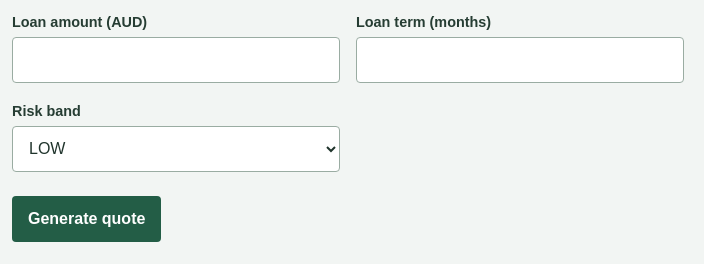
Scenario: LoanQuoteForm › shows the missing API key message to the user
Type "500000" into the number field labelled "Loan amount (AUD)".
click(176, 60); type("500000")  # box [12, 37, 340, 83]
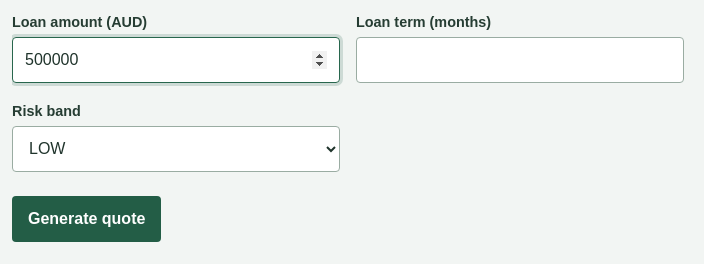
Type "360" into the number field labelled "Loan term (months)".
click(520, 60); type("360")  # box [356, 37, 684, 83]
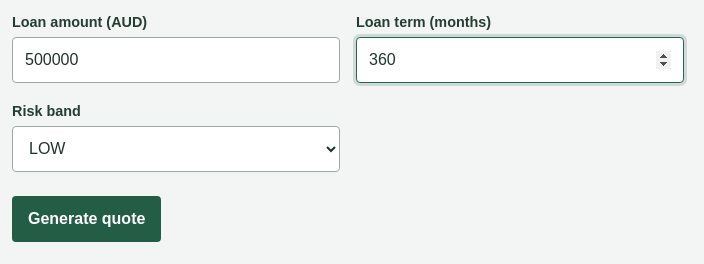
Click the button "Generate quote".
click(87, 219)  # box [12, 196, 161, 242]
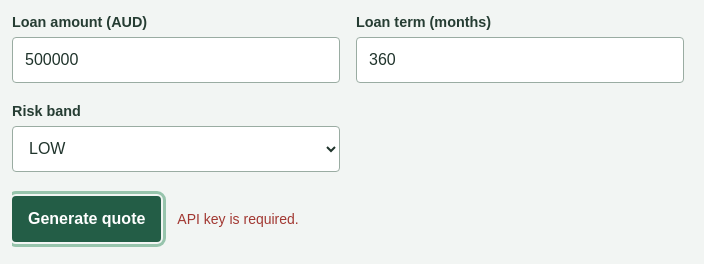
Now the message reads "API key is required.", box [177, 211, 299, 227]
